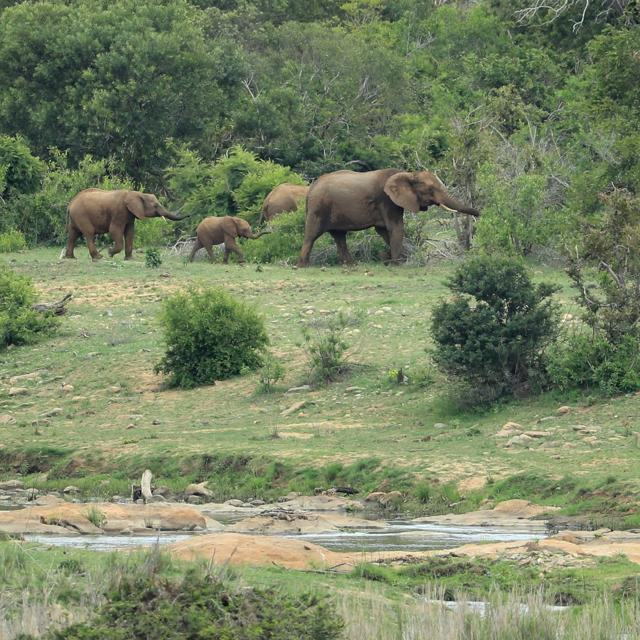elephant: (283, 125, 520, 311), (43, 137, 201, 312), (174, 193, 291, 288)
